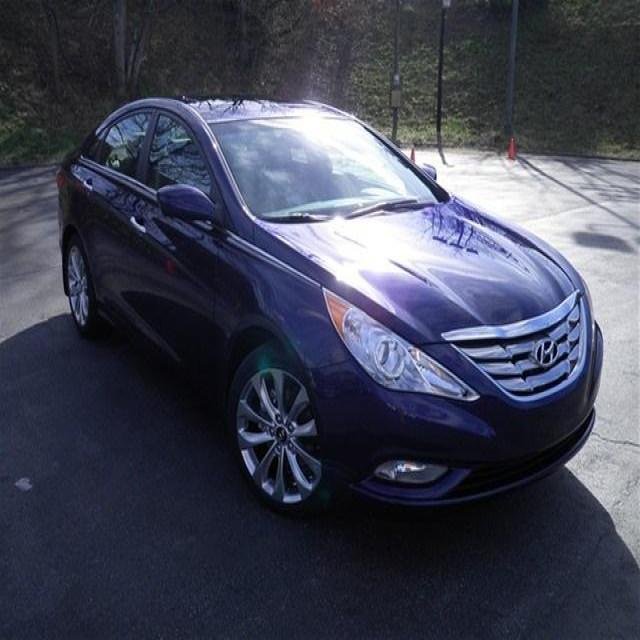Car: (28, 86, 598, 522)
